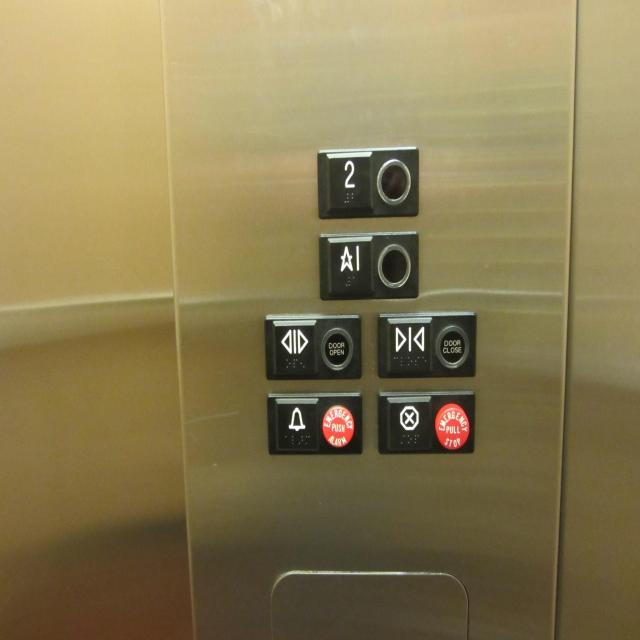2: (313, 142, 422, 221)
alarm: (262, 389, 368, 459)
close: (375, 307, 480, 382)
open: (262, 311, 367, 384)
s1: (314, 229, 424, 304)
stop: (373, 387, 478, 458)
